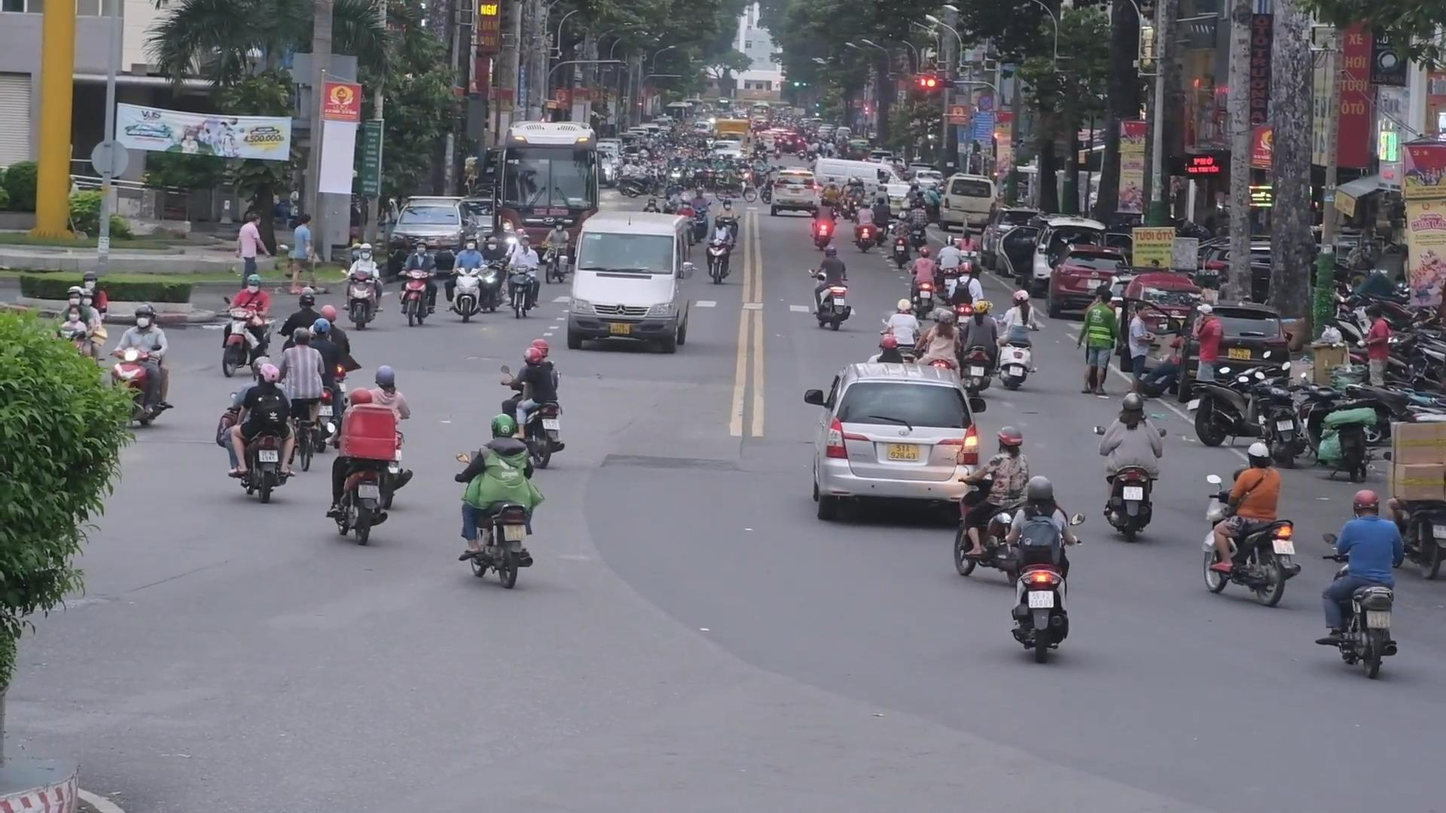bicyclist: (278, 326, 326, 472)
driver: (995, 475, 1086, 663), (1315, 489, 1404, 679), (1203, 442, 1300, 607), (454, 413, 544, 589), (953, 424, 1029, 584), (216, 355, 296, 504), (320, 388, 395, 546), (1093, 392, 1167, 542), (501, 339, 565, 469), (106, 304, 174, 426), (221, 274, 280, 377), (997, 289, 1039, 390), (959, 300, 999, 398), (808, 244, 852, 331), (446, 235, 488, 323), (342, 243, 384, 330), (397, 238, 438, 327), (505, 234, 540, 319), (906, 246, 937, 320), (541, 217, 570, 284)
helmet: (1027, 474, 1053, 507), (1353, 489, 1379, 519), (997, 424, 1023, 454), (1247, 442, 1272, 470), (491, 413, 516, 439), (256, 363, 279, 388), (1122, 392, 1144, 416), (134, 304, 155, 329), (375, 366, 394, 389), (523, 347, 543, 366), (879, 336, 897, 354)
no-helmet: (293, 328, 310, 348)
